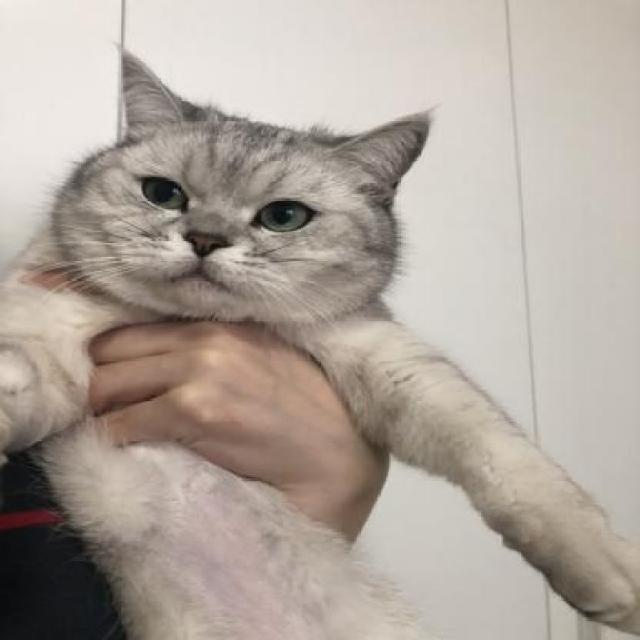cat-face: (33, 33, 447, 324)
